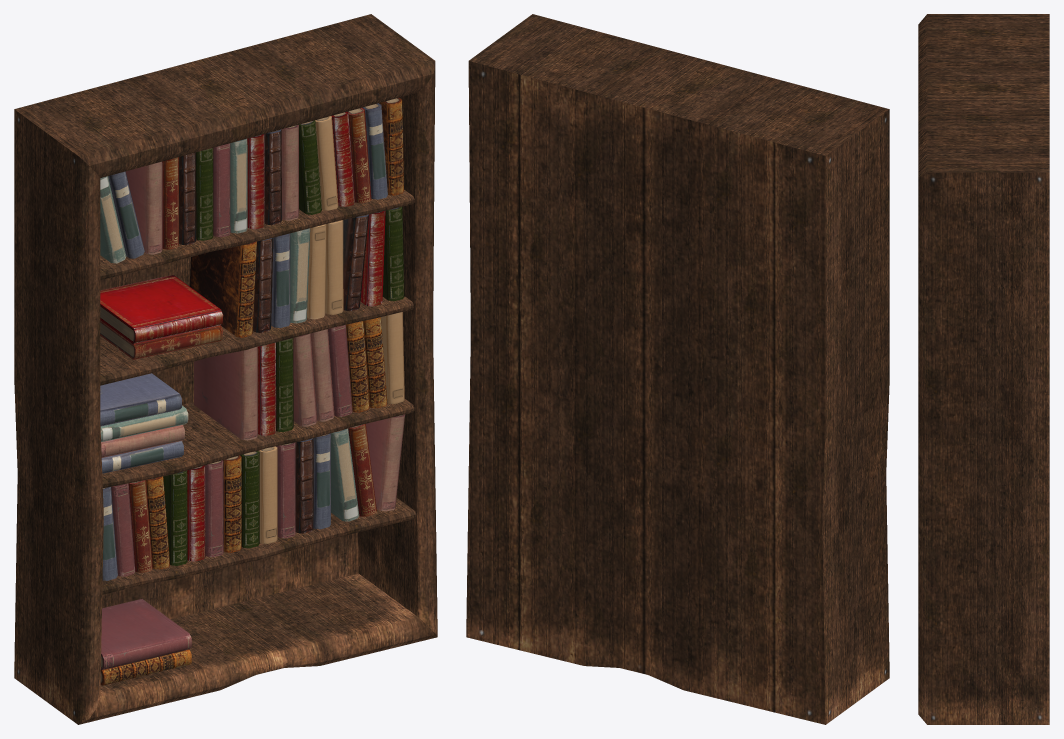
File: bookshelf.obj
3 views of the same model, side by side, from view 1: azimuth 30°, elevation 25°; view 2: azimuth 150°, elevation 25°; view 3: azimuth 270°, elevation 25° (orthographic). The views are drawn at different scales.
Size of the model in its own units: 94.85 by 145 by 31.41.
2 materials, 2 textured.
